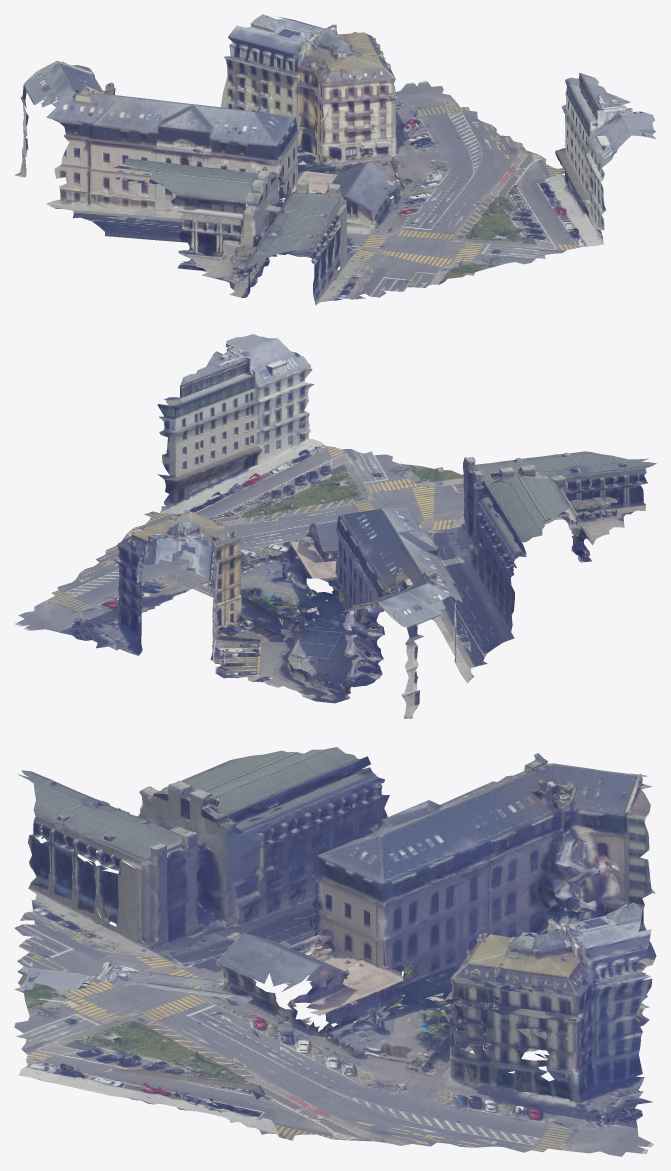
3 renders of one model, top to bottom at view 1: azimuth 30°, elevation 25°; view 2: azimuth 150°, elevation 25°; view 3: azimuth 270°, elevation 25°, orthographic. The views are drawn at different scales.
Size of the model in its own units: 107 by 32.24 by 106.
Materials: 1 (1 with a texture image).
